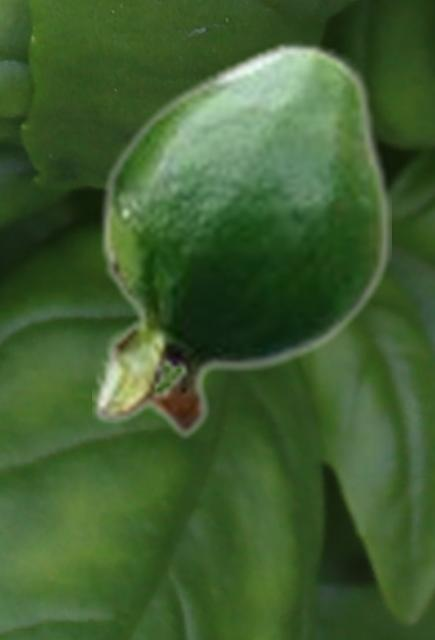guava: (92, 40, 390, 440)
